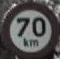Speed limit: (4, 8, 52, 50)
